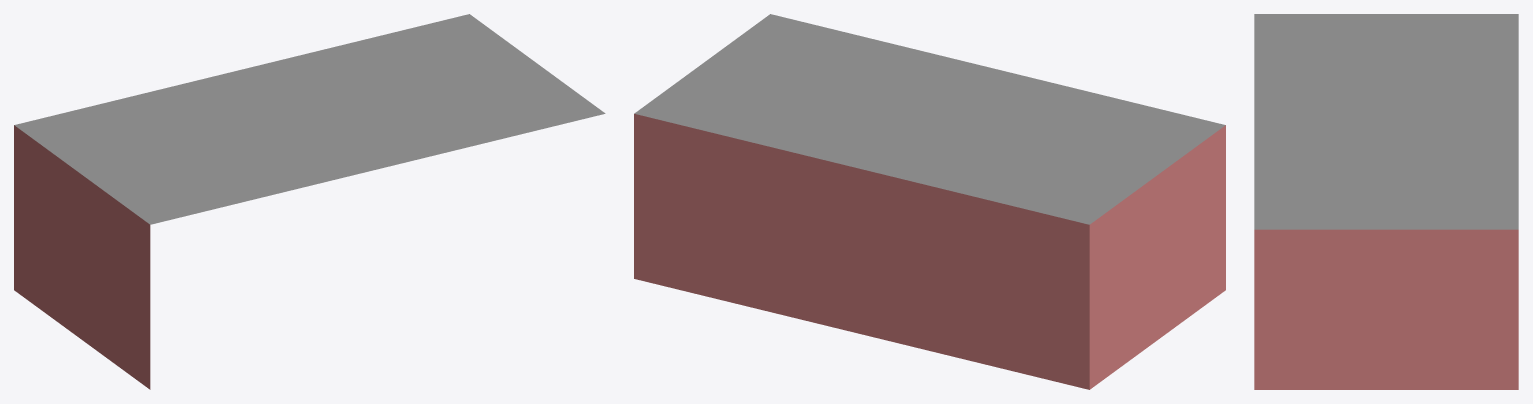
File: PriMT_port_wood_x.gltf
The picture shows the model from 3 angles, left to right: view 1: azimuth 30°, elevation 25°; view 2: azimuth 150°, elevation 25°; view 3: azimuth 270°, elevation 25°; orthographic projection. The views are drawn at different scales.
Visible parts, largest first — view 1: PriMT_port_wood_x; view 2: PriMT_port_wood_x; view 3: PriMT_port_wood_x.
Boxes of the visible parts, x1=… form: PriMT_port_wood_x: x1=14, y1=14, x2=605, y2=389; PriMT_port_wood_x: x1=634, y1=14, x2=1225, y2=389; PriMT_port_wood_x: x1=1254, y1=14, x2=1518, y2=389.
Size of the model in its own units: 2.9 by 1 by 1.5.
